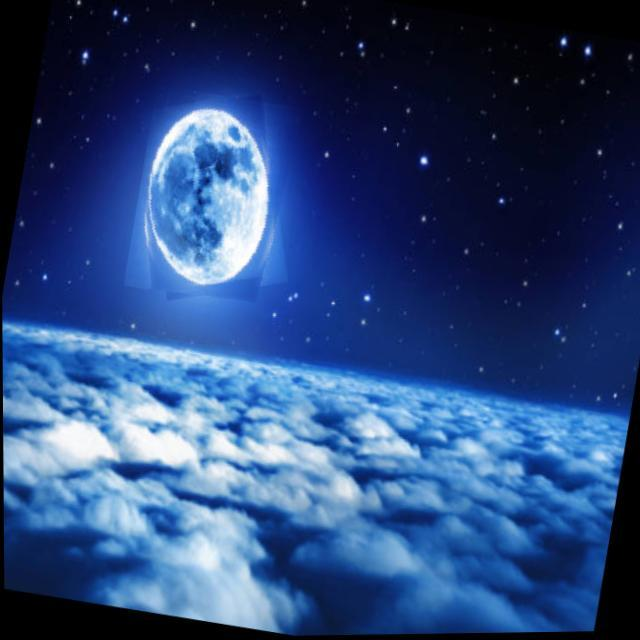moon: (121, 84, 304, 313)
